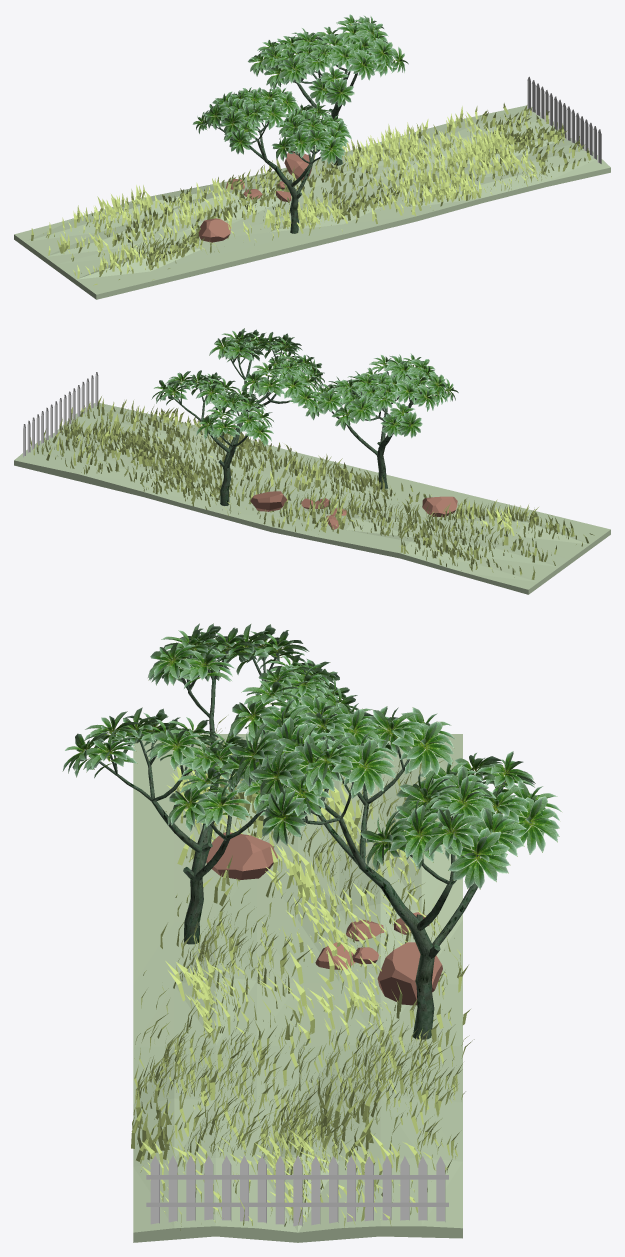
The model's file is garden-fixed.glb.
The picture shows the model from 3 angles, top to bottom: view 1: azimuth 30°, elevation 25°; view 2: azimuth 150°, elevation 25°; view 3: azimuth 270°, elevation 25°; orthographic projection. The views are drawn at different scales.
Visible parts, largest first — view 1: Grass; view 2: Grass; view 3: Grass.
Part boxes in pixels (x1,y1,x2,y2): Grass: (14,14,610,299); Grass: (14,328,610,594); Grass: (62,623,561,1242).
Bounding box in the file's own units: 109 × 32.44 × 45.45.
Materials: 9 (4 with a texture image).
